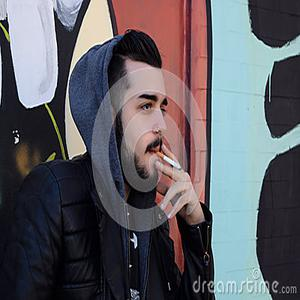cigarette: (154, 151, 186, 171)
